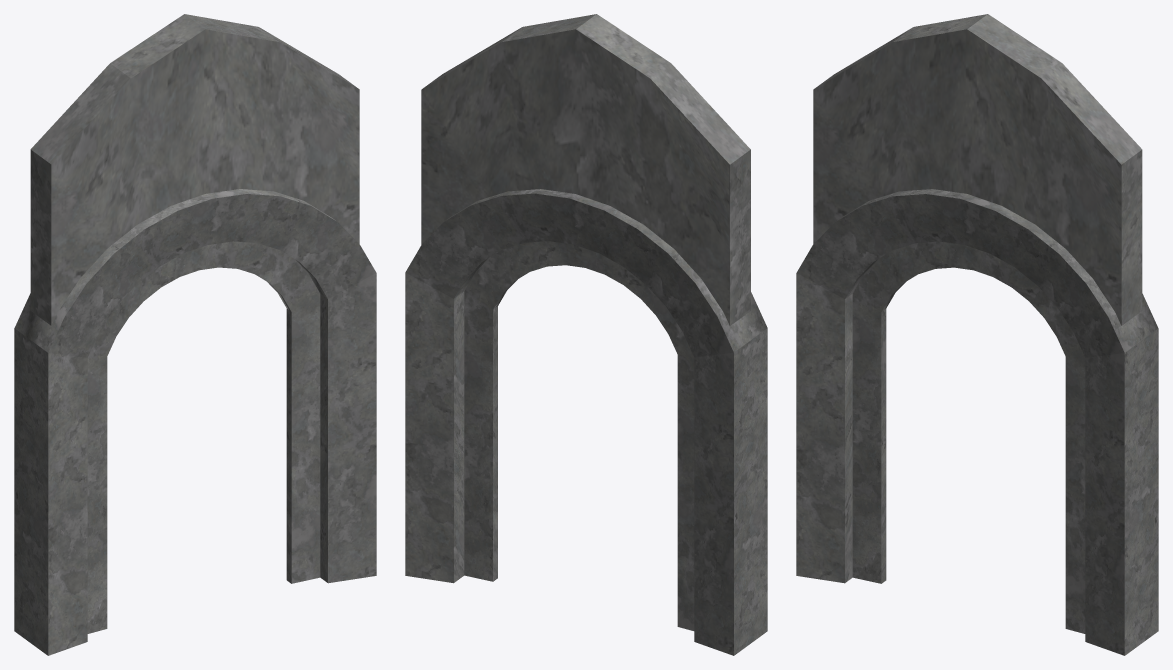
File: door_frame.gltf
3 renders of one model, left to right at view 1: azimuth 30°, elevation 25°; view 2: azimuth 150°, elevation 25°; view 3: azimuth 330°, elevation 25°, orthographic.
Visible parts, largest first — view 1: Cube.001; view 2: Cube.001; view 3: Cube.001.
Boxes of the visible parts, left/top/right/bottom form: Cube.001: left=14, top=14, right=376, bottom=655; Cube.001: left=405, top=14, right=767, bottom=655; Cube.001: left=796, top=14, right=1158, bottom=655.
Bounding box in the file's own units: 2.13 × 3.61 × 0.379.
Materials: 1 (1 with a texture image).
